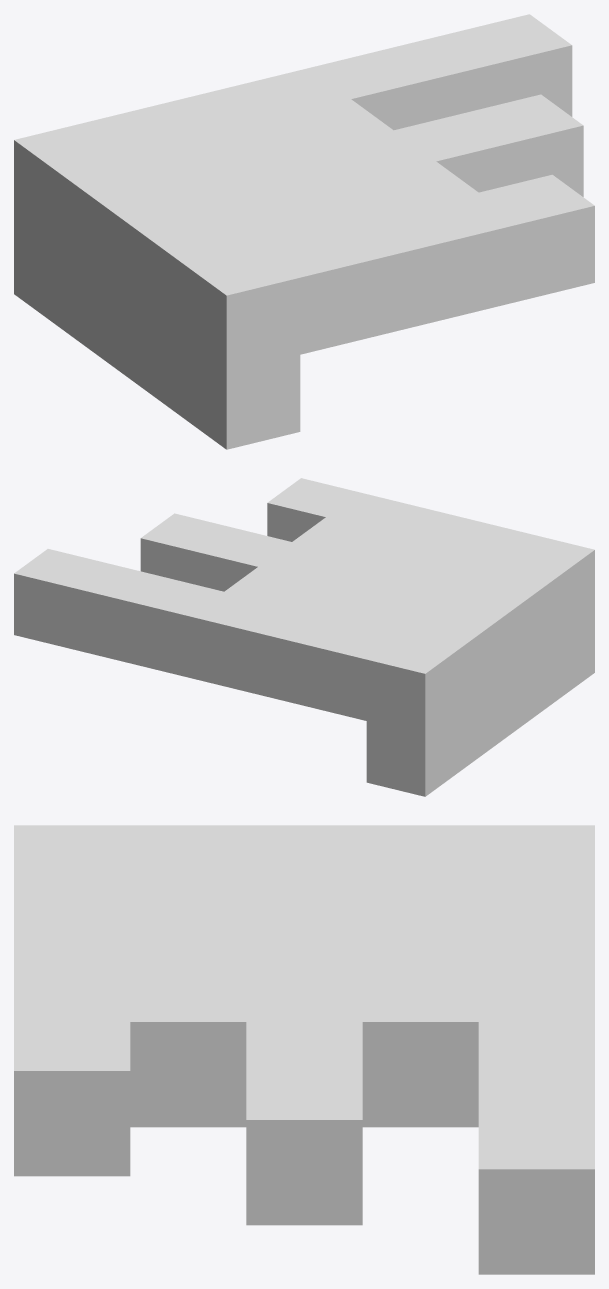
File: birdWingsRight.dae
3 views of the same model, one above another, from view 1: azimuth 30°, elevation 25°; view 2: azimuth 150°, elevation 25°; view 3: azimuth 270°, elevation 25° (orthographic). The views are drawn at different scales.
Parts seen in each view (by area): view 1: birdWingsRight; view 2: birdWingsRight; view 3: birdWingsRight.
Boxes of the visible parts, x1,y1,x2,y2 form: birdWingsRight: (14,14,594,449); birdWingsRight: (14,478,594,796); birdWingsRight: (14,825,594,1274).
Size of the model in its own units: 0.7 by 0.5 by 0.2.
Materials: 1 (1 with a texture image).
